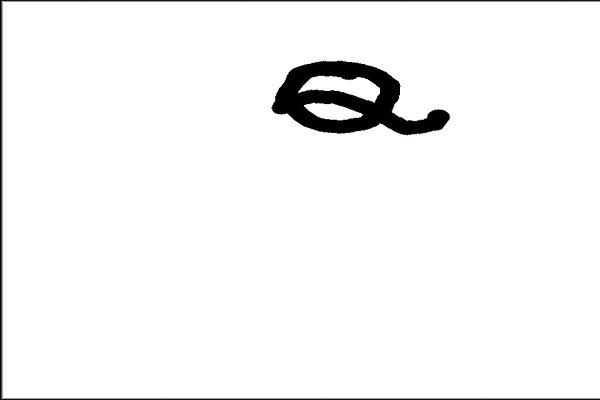Q: (264, 50, 458, 147)
